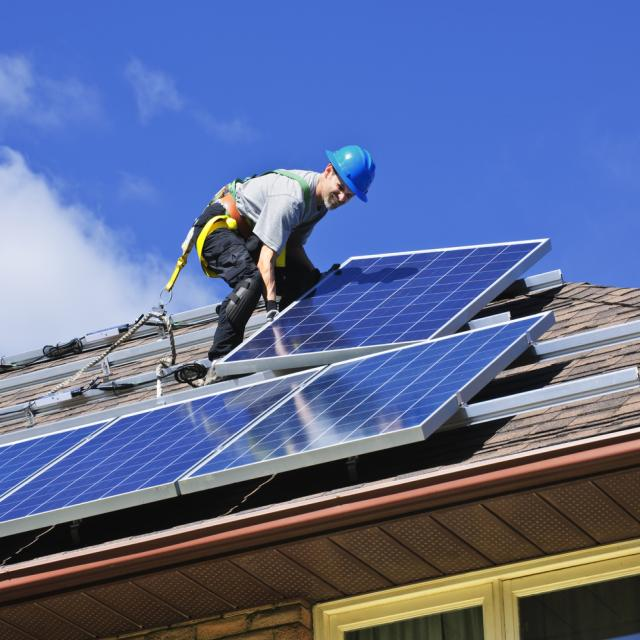clean-solar-panel: (0, 312, 555, 536), (219, 239, 550, 376)
